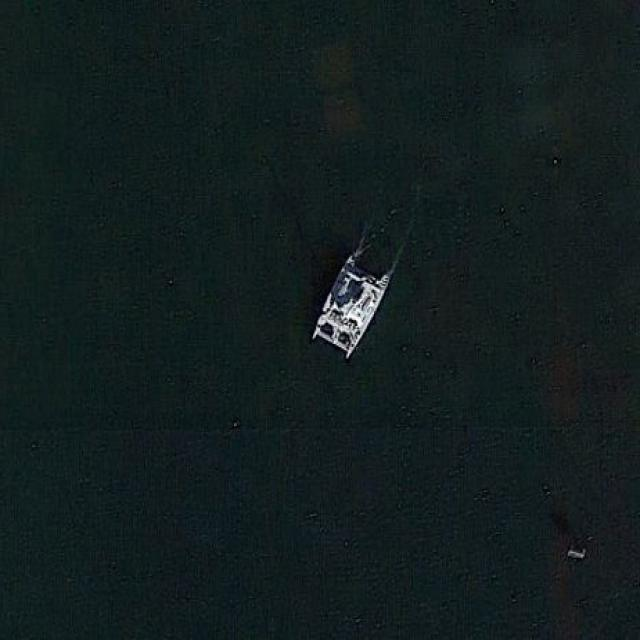ship: (310, 250, 394, 360)
